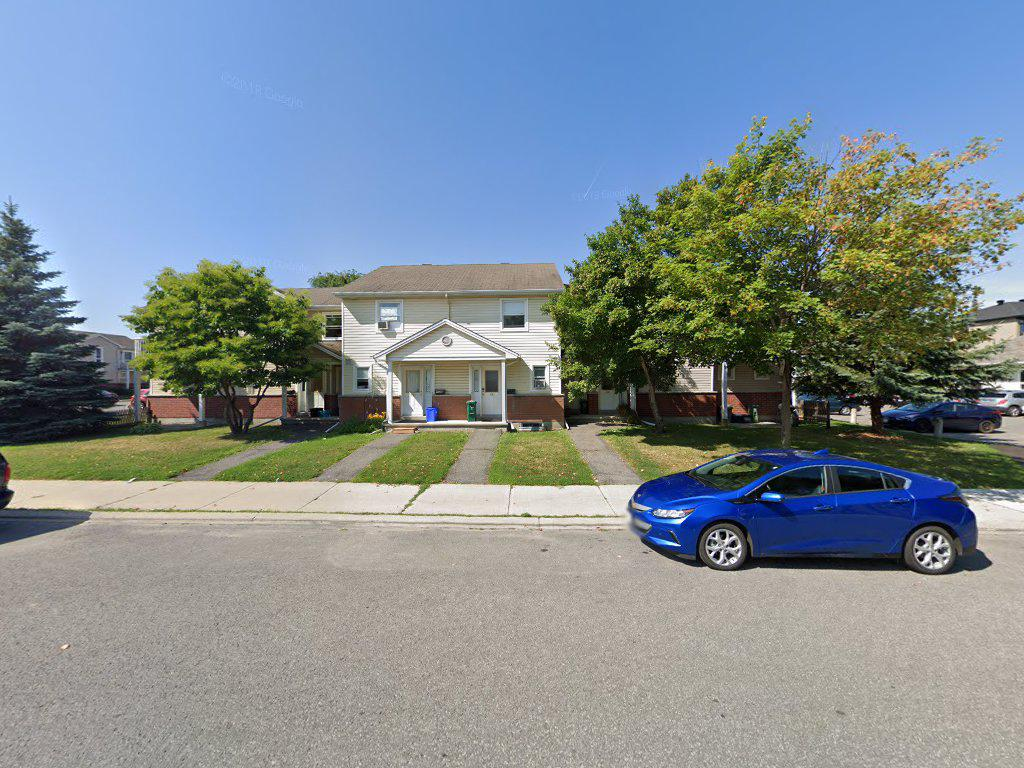trunk: (779, 363, 797, 450)
